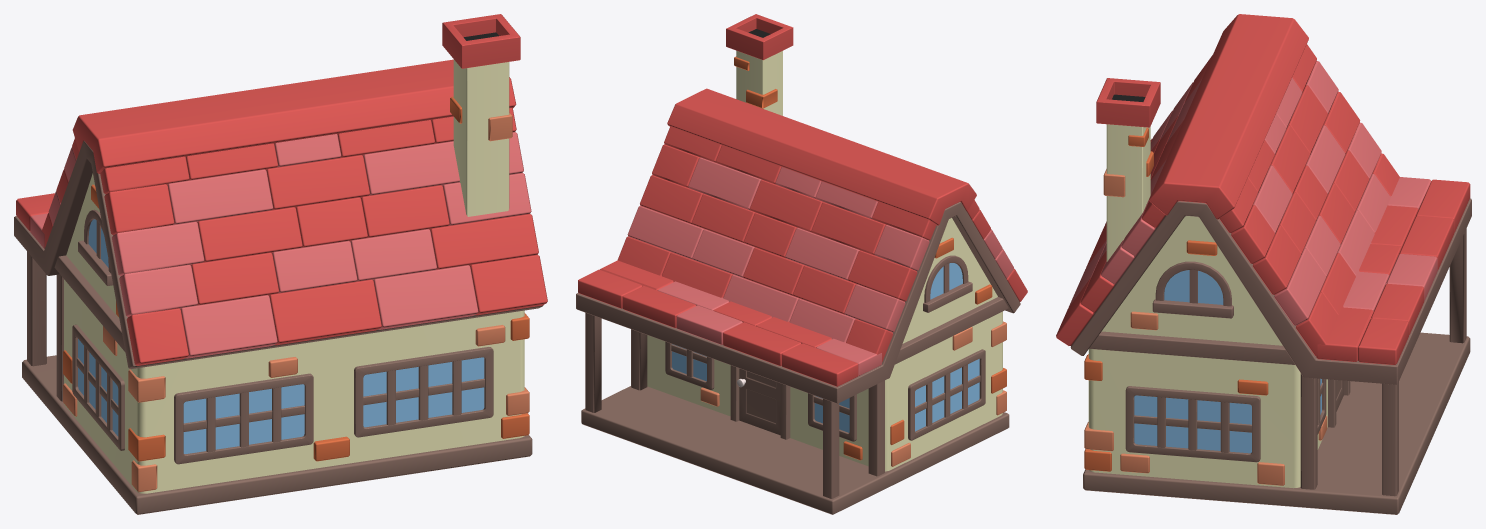
The model's file is maison-light.glb.
3 renders of one model, left to right at view 1: azimuth 30°, elevation 25°; view 2: azimuth 150°, elevation 25°; view 3: azimuth 270°, elevation 25°, orthographic. The views are drawn at different scales.
Parts seen in each view (by area): view 1: Isl_9_House_1; view 2: Isl_9_House_1; view 3: Isl_9_House_1.
Part boxes in pixels (left/top/right/bottom): Isl_9_House_1: left=14, top=14, right=547, bottom=514; Isl_9_House_1: left=576, top=14, right=1027, bottom=514; Isl_9_House_1: left=1056, top=14, right=1471, bottom=514.
Bounding box in the file's own units: 3.42 × 3.17 × 3.09.
1 material, 1 textured.
